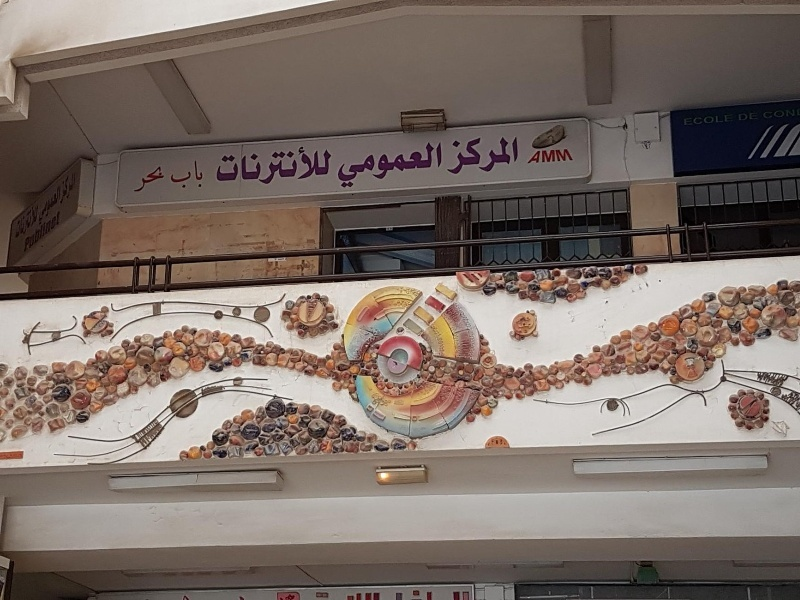text: (353, 141, 368, 189), (369, 141, 384, 189), (385, 141, 400, 189), (401, 141, 416, 189), (417, 141, 432, 189), (17, 201, 32, 244), (33, 211, 48, 254), (225, 145, 240, 187), (241, 145, 256, 187), (257, 145, 272, 187), (273, 145, 288, 187), (289, 145, 304, 187), (305, 145, 320, 187), (339, 141, 352, 189), (449, 136, 464, 175), (465, 136, 480, 175), (481, 136, 496, 175), (497, 136, 512, 175), (49, 211, 62, 254), (49, 184, 61, 228), (321, 145, 333, 187), (65, 169, 77, 206), (177, 160, 192, 189), (433, 141, 442, 189), (39, 184, 48, 228), (145, 167, 160, 193), (24, 211, 32, 254), (193, 160, 203, 189), (133, 167, 144, 193), (218, 145, 224, 187), (545, 150, 560, 164), (513, 136, 518, 175), (689, 114, 704, 127), (705, 114, 720, 127), (561, 150, 574, 164), (33, 201, 37, 244), (721, 114, 734, 127), (769, 109, 784, 120), (533, 150, 544, 164), (737, 112, 752, 122), (171, 160, 176, 189), (785, 109, 796, 120), (161, 167, 165, 193), (14, 201, 16, 244), (761, 109, 768, 120), (62, 169, 64, 206), (683, 114, 688, 127), (753, 112, 758, 122)
